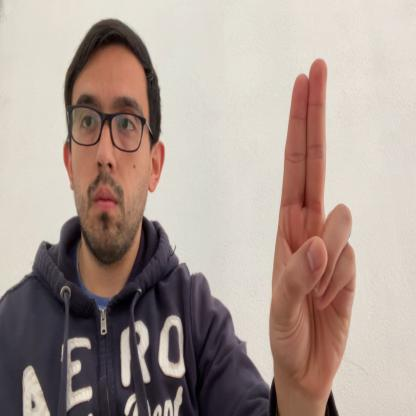U: (268, 55, 355, 414)
